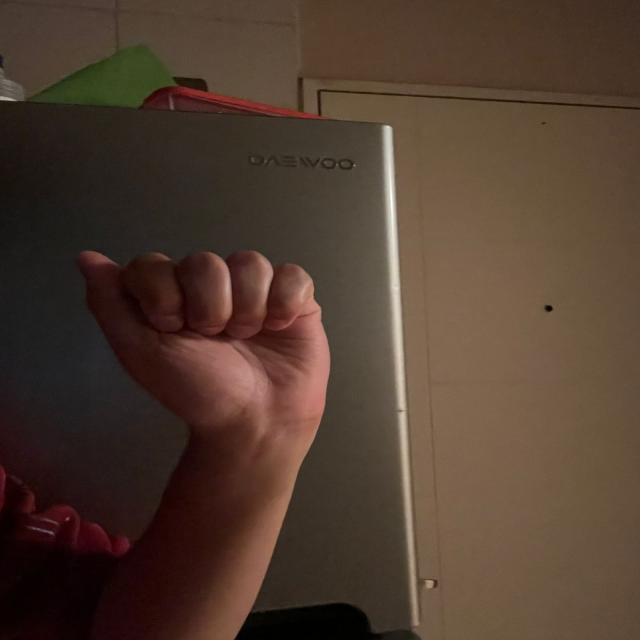A: (61, 241, 362, 431)
